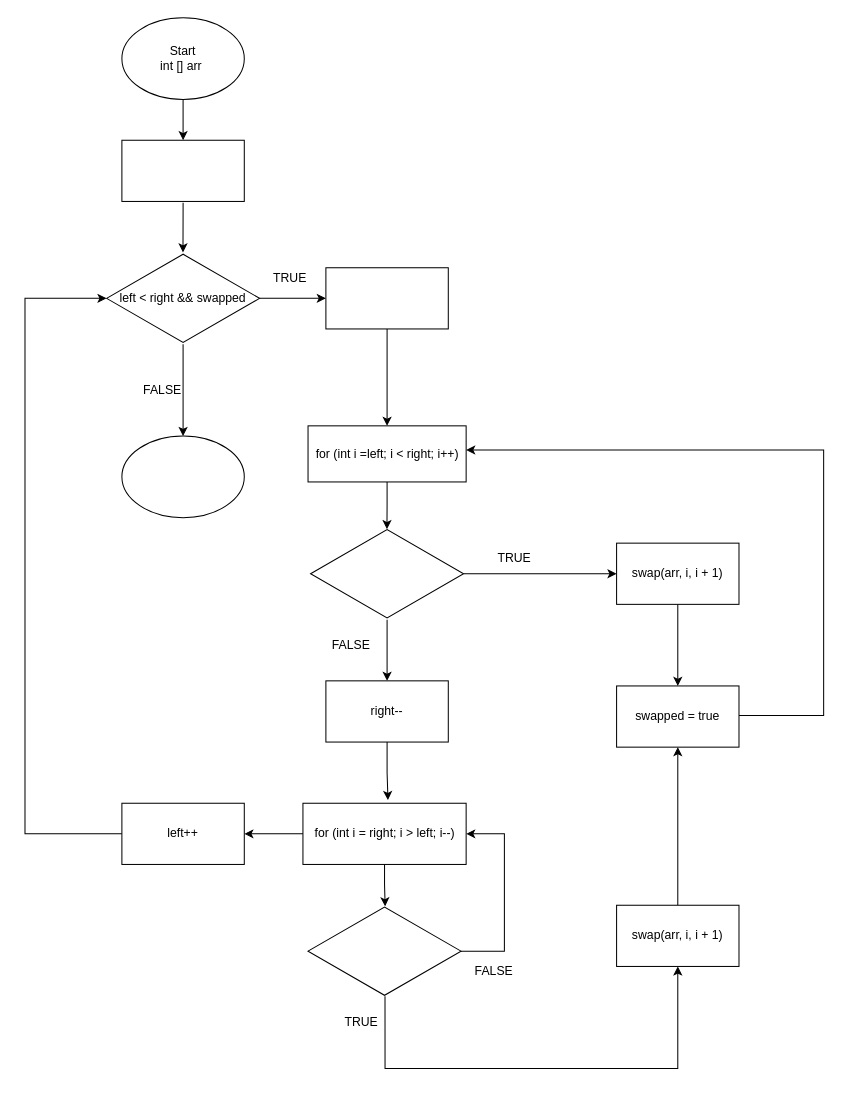
This 850x1094 diagram has some shape labels left out. Each missing label, with the centre of its shape:
arr[i] < arr[i - 1]: the point at 384,950
arr[i] > arr[i + 1]: the point at 387,573
End: the point at 182,476
int left =0 int right = arr.length-1 swapped = true: the point at 182,170
swapped = false: the point at 386,298
